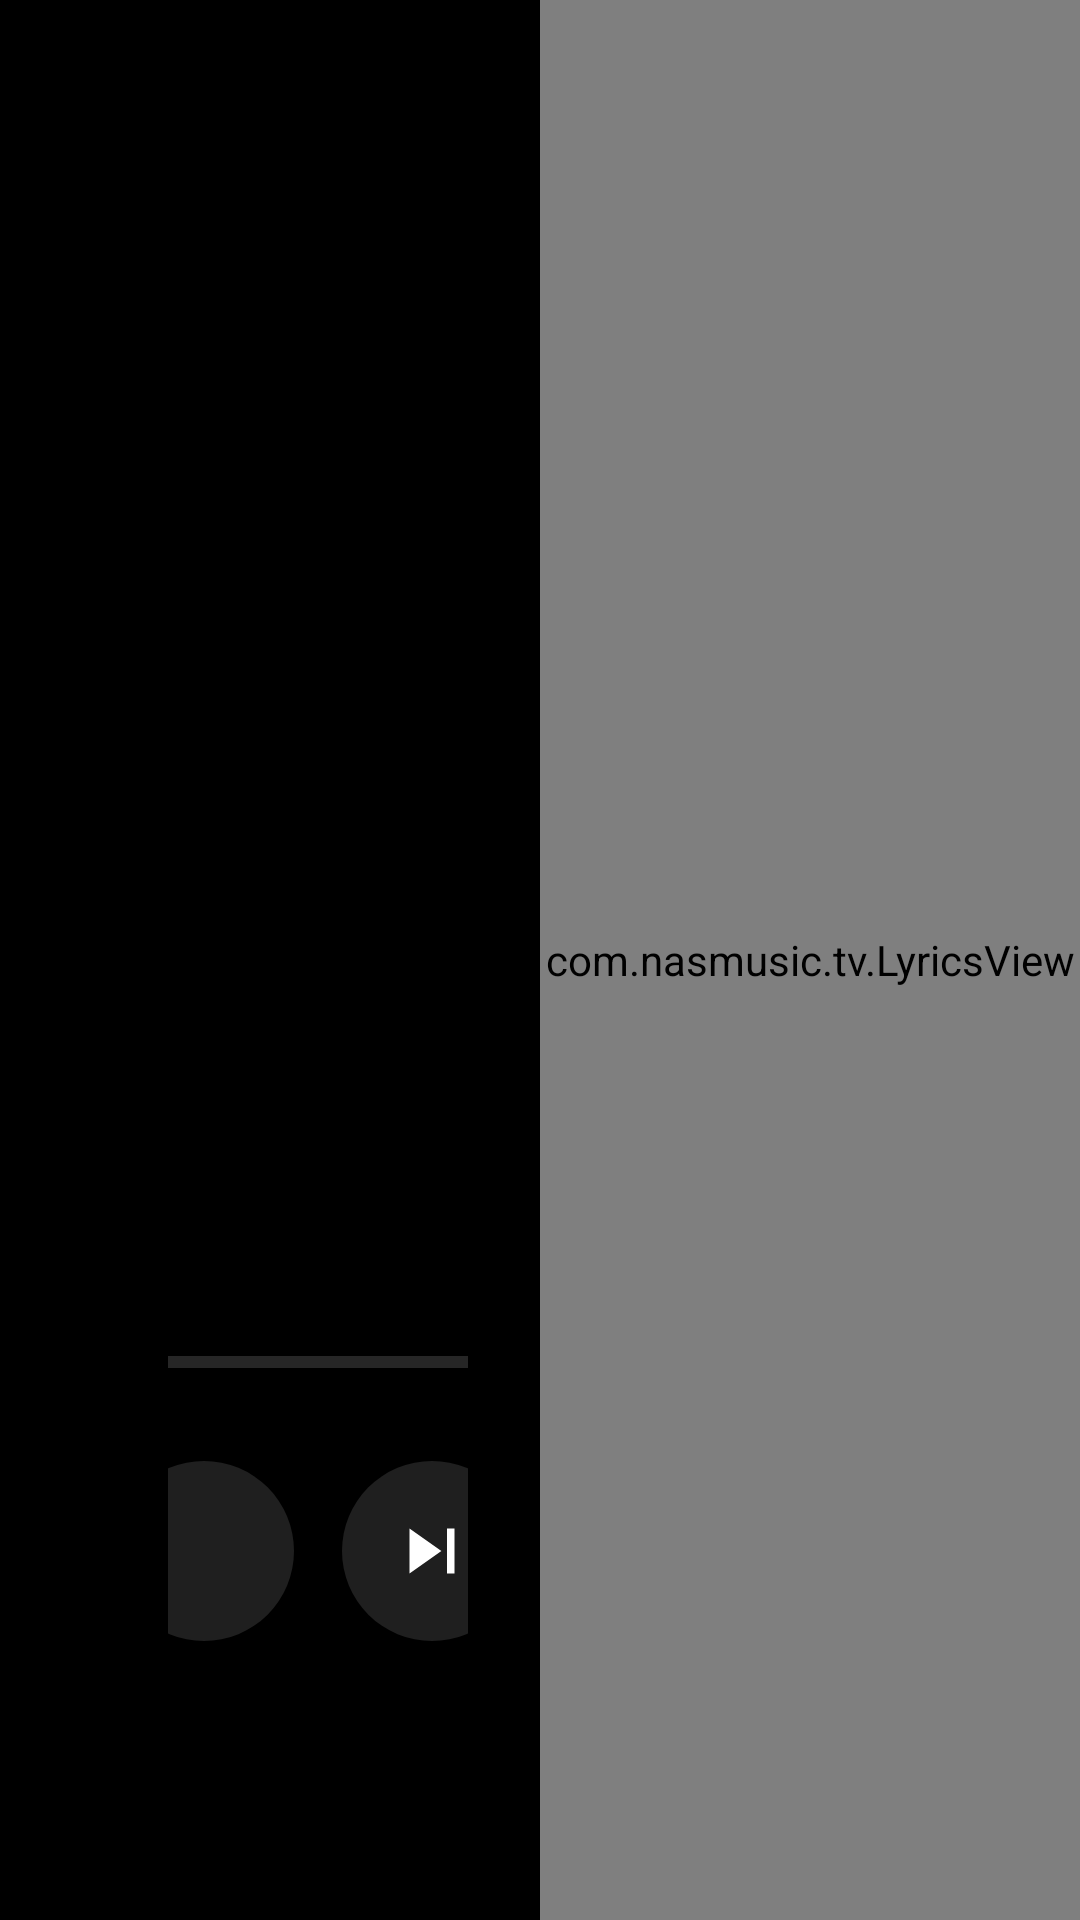

Icons on this 1080×1920 Android screen, each with its box as (x1, y1, x2, y2):
下一首: (342, 1461, 468, 1641)
